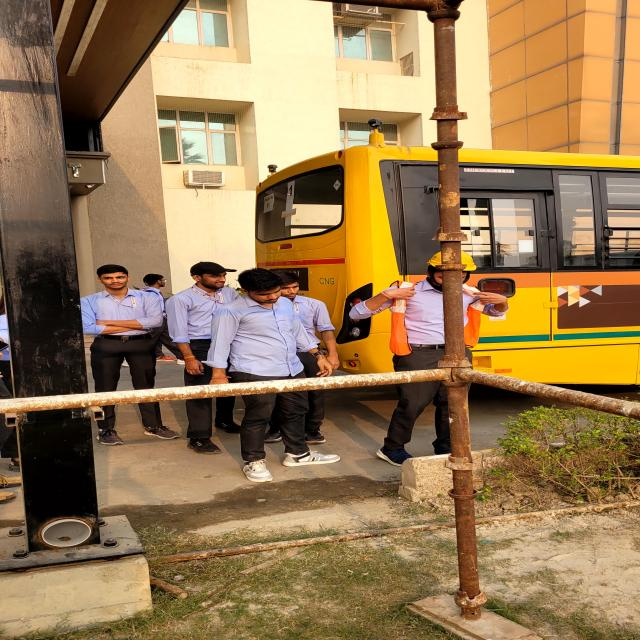safe: (376, 248, 498, 465)
unsafe: (212, 269, 346, 482), (79, 264, 183, 445), (172, 257, 242, 459)
